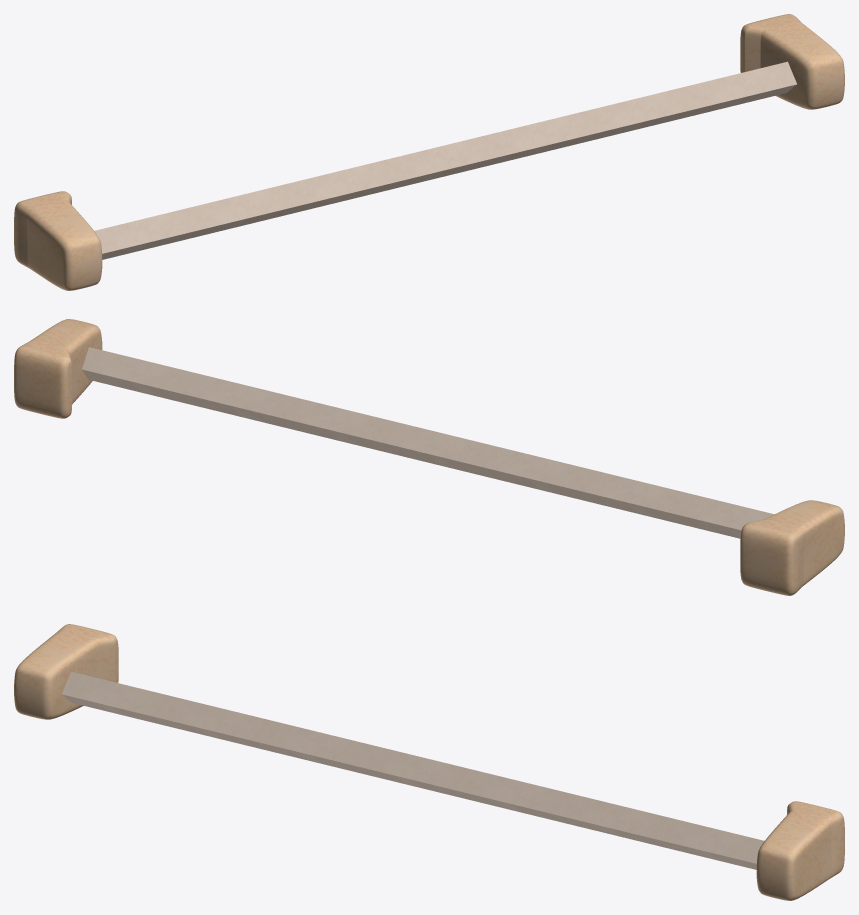
Rendered from Barral_Toalla.fbx.
The picture shows the model from 3 angles, top to bottom: view 1: azimuth 30°, elevation 25°; view 2: azimuth 150°, elevation 25°; view 3: azimuth 330°, elevation 25°; orthographic projection.
Visible parts, largest first — view 1: barra toallas; view 2: barra toallas; view 3: barra toallas.
Boxes of the visible parts, <box> form: barra toallas: <box>14,14,844,290</box>; barra toallas: <box>14,319,844,595</box>; barra toallas: <box>14,624,844,900</box>.
Bounding box in the file's own units: 63.33 × 4.81 × 8.
